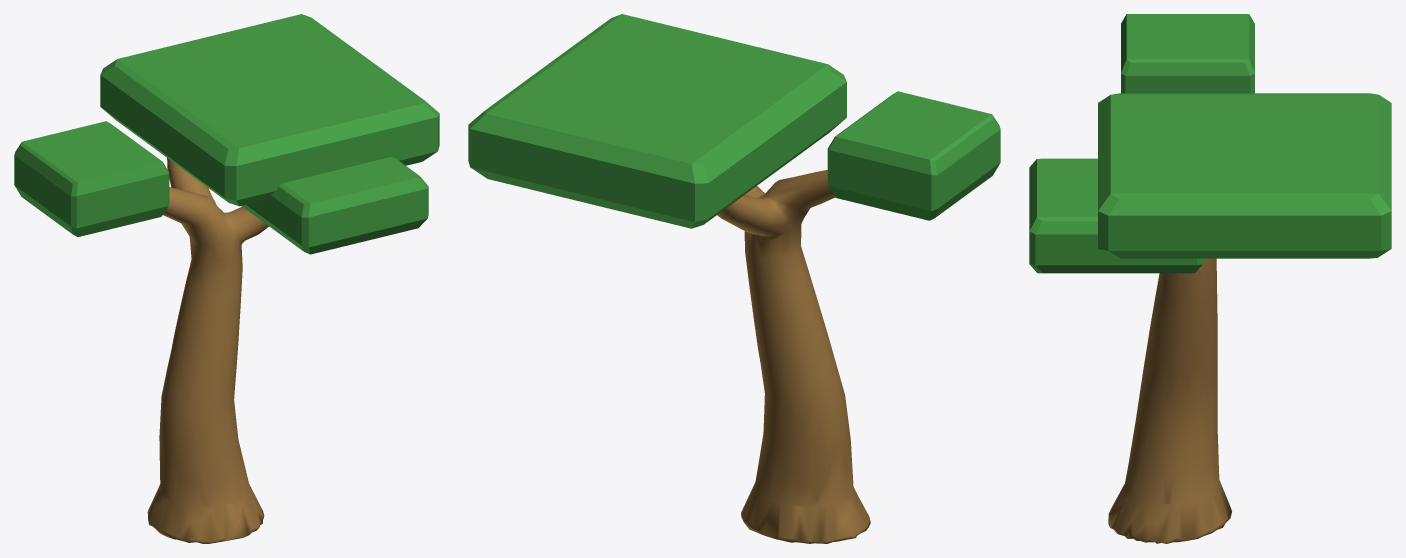
The model's file is tree.fbx.
The picture shows the model from 3 angles, left to right: view 1: azimuth 30°, elevation 25°; view 2: azimuth 150°, elevation 25°; view 3: azimuth 270°, elevation 25°; orthographic projection. The views are drawn at different scales.
Parts seen in each view (by area): view 1: Cube.016, Cylinder.002, Cube.018, Cube.017; view 2: Cube.016, Cylinder.002, Cube.018; view 3: Cube.016, Cylinder.002, Cube.018, Cube.017.
Boxes of the visible parts, box(x1,y1,x2,y2) form: Cube.016: box(100, 14, 439, 206); Cylinder.002: box(147, 158, 268, 543); Cube.018: box(14, 121, 169, 236); Cube.017: box(242, 157, 428, 254); Cube.016: box(468, 14, 846, 228); Cylinder.002: box(717, 170, 870, 543); Cube.018: box(827, 91, 1000, 220); Cube.016: box(1098, 93, 1391, 258); Cylinder.002: box(1108, 258, 1231, 543); Cube.018: box(1121, 14, 1254, 93); Cube.017: box(1029, 158, 1202, 273).
Bounding box in the file's own units: 502 × 519 × 397.
